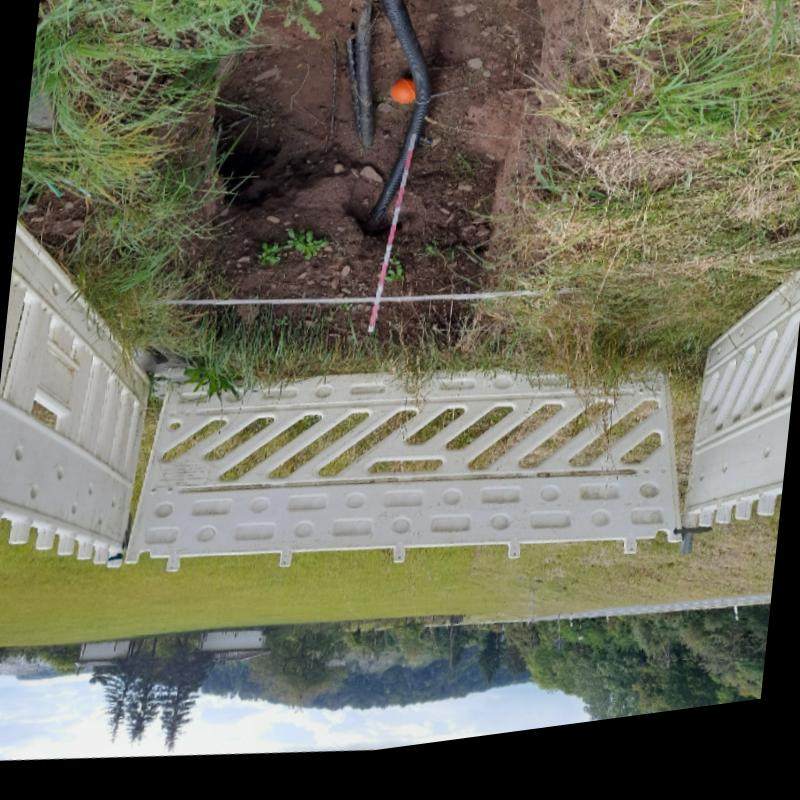Kugelmarker: (390, 89, 415, 113)
